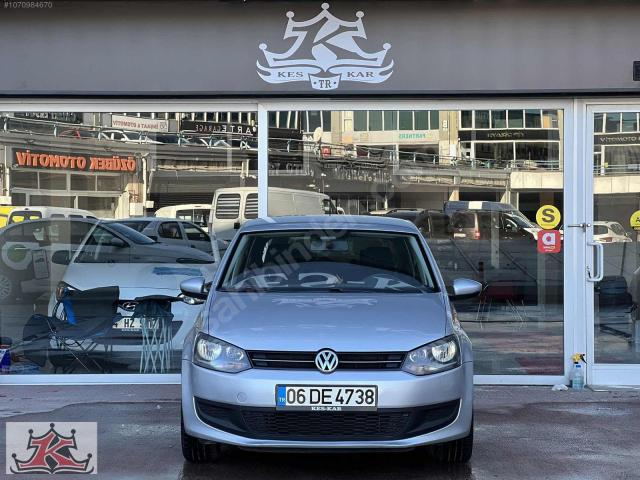plaka: (277, 386, 377, 410)
